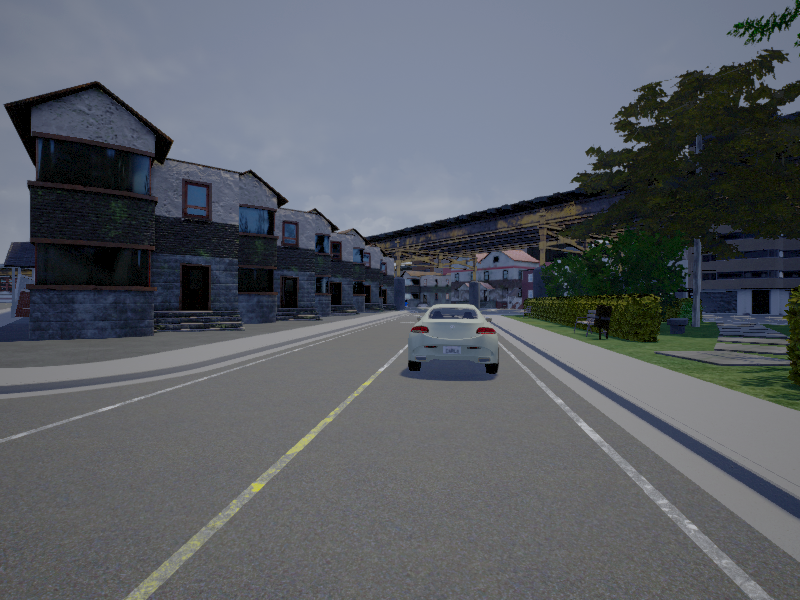Benign: (409, 304, 501, 374)
